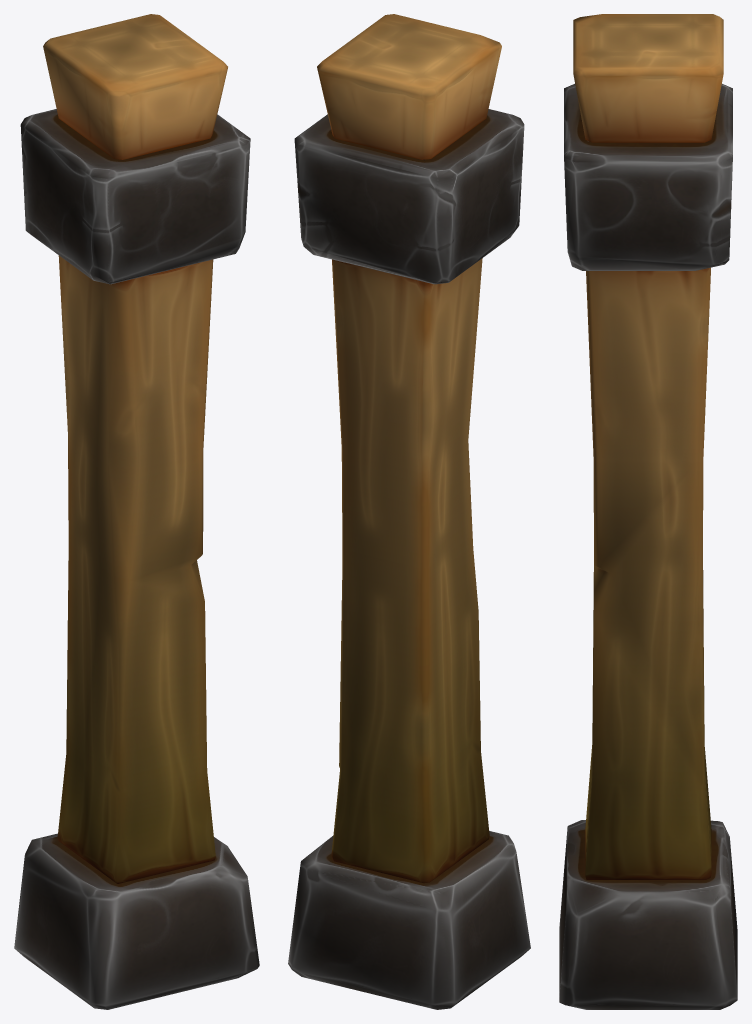
File: Pillar.fbx
3 renders of one model, left to right at view 1: azimuth 30°, elevation 25°; view 2: azimuth 150°, elevation 25°; view 3: azimuth 270°, elevation 25°, orthographic.
Parts seen in each view (by area): view 1: U_Pillar; view 2: U_Pillar; view 3: U_Pillar.
Part boxes in pixels (x1,y1,x2,y2): U_Pillar: [14, 14, 259, 1009]; U_Pillar: [288, 14, 530, 1009]; U_Pillar: [559, 14, 737, 1009].
Size of the model in its own units: 88.59 by 464 by 80.5.
Materials: 1 (1 with a texture image).
